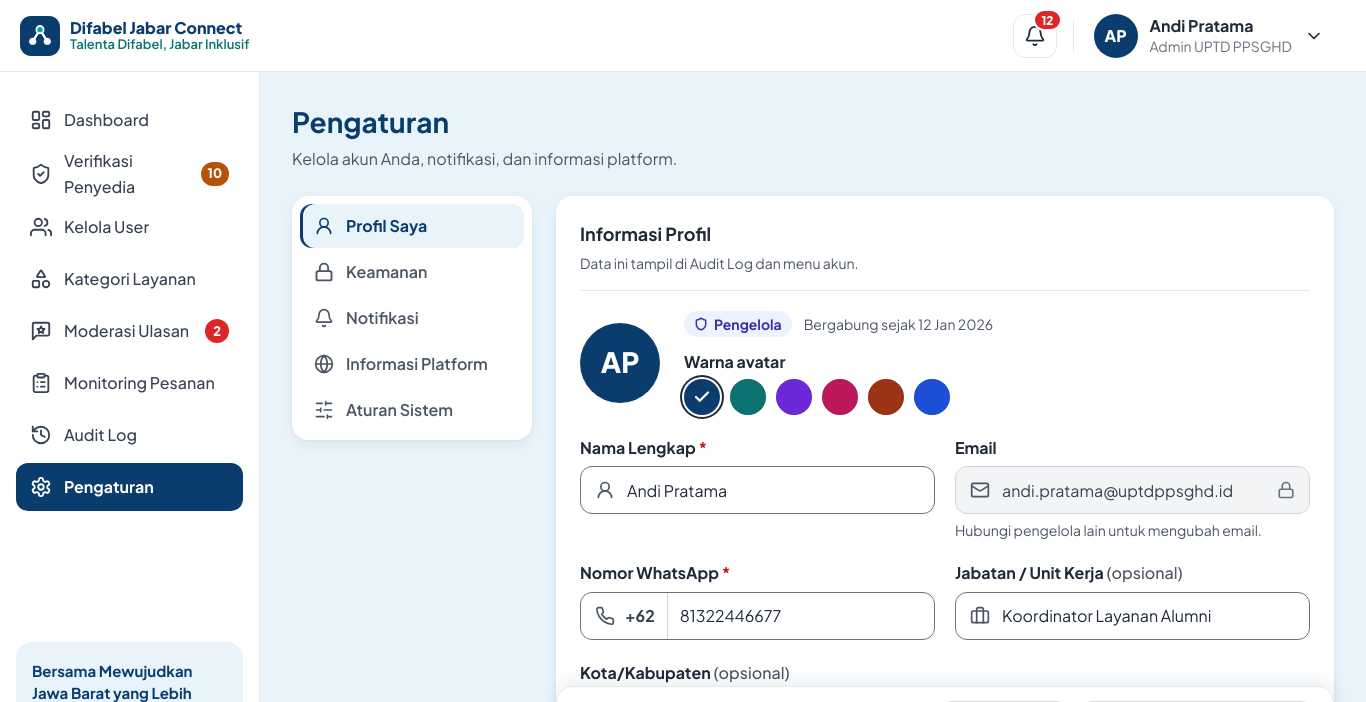
Scenario: Pengaturan Admin › Profil Saya: meminta konfirmasi sebelum meninggalkan perubahan
Step 1. Type " Senior" into the field labelled "Jabatan / Unit Kerja (opsional)" → (1148, 616), box [1000,594,1295,638]
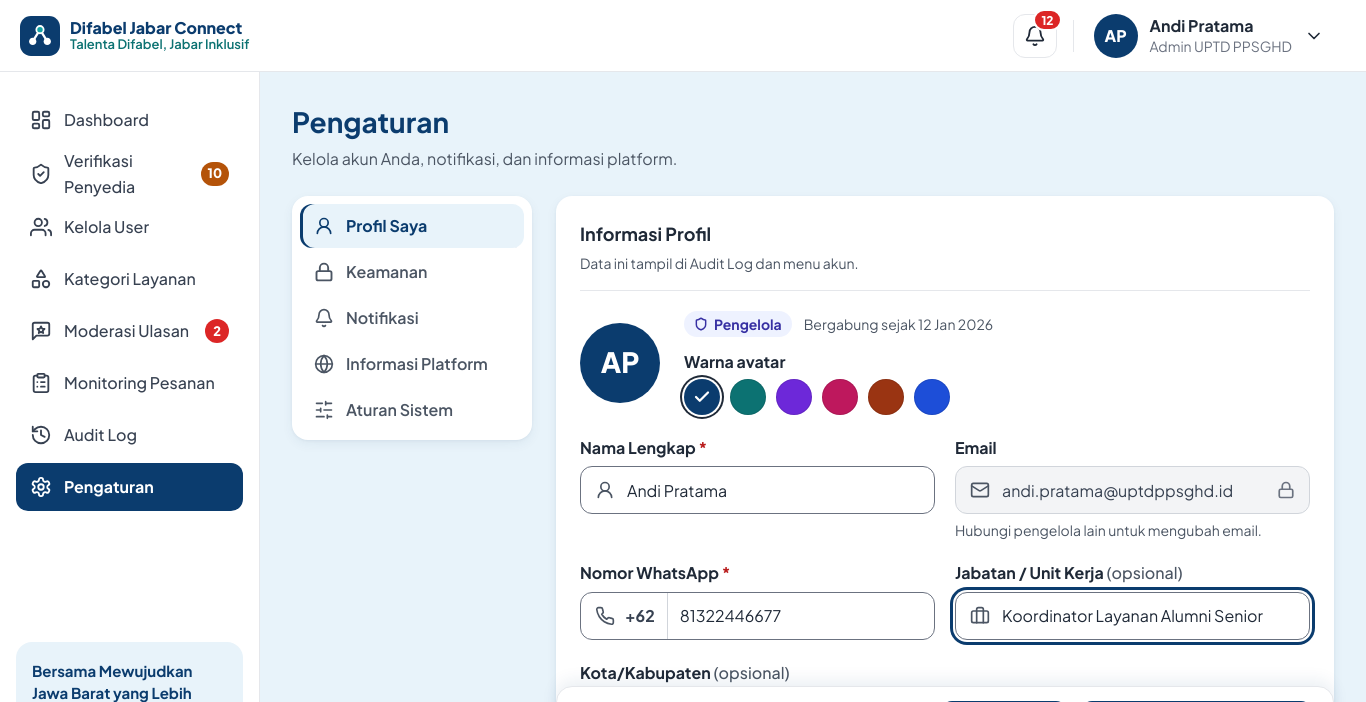
Step 2. Click the link "Keamanan" → (371, 271), box [314,261,427,282]
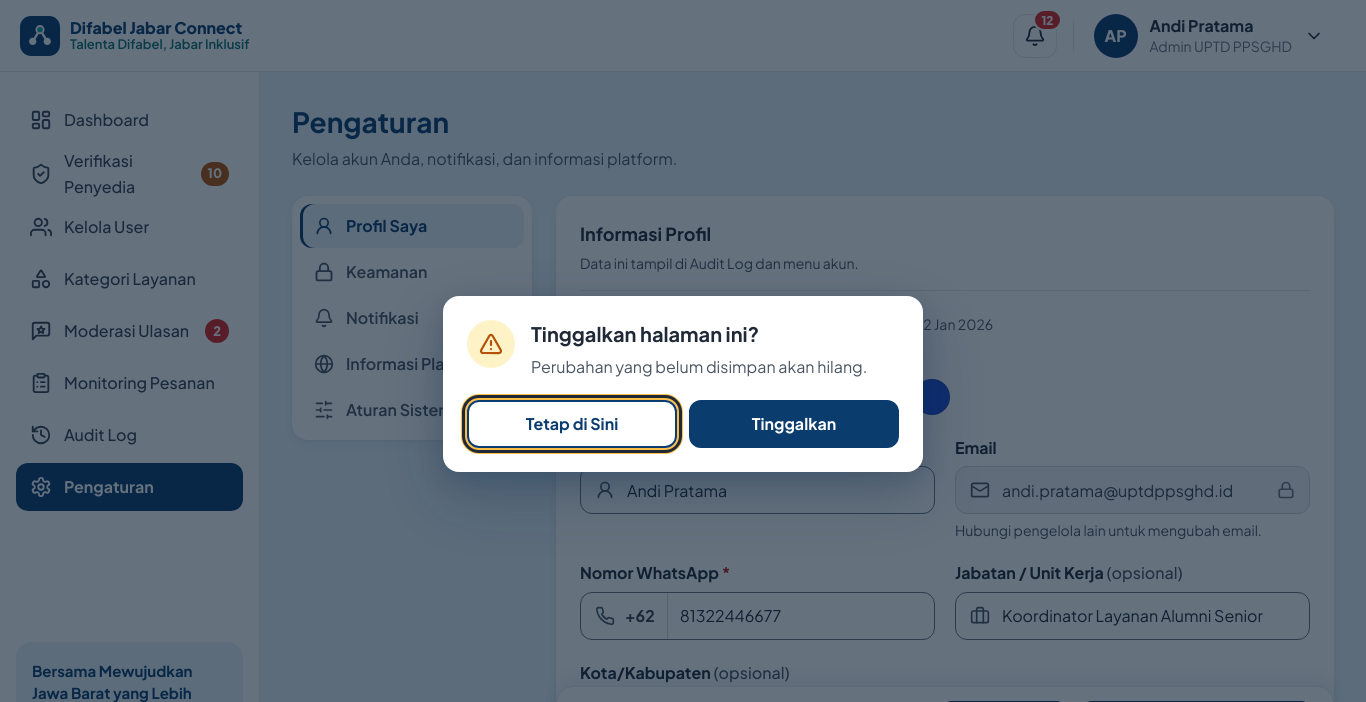
Step 3. Click the button "Tetap di Sini" → (572, 424), box [467,400,677,448]
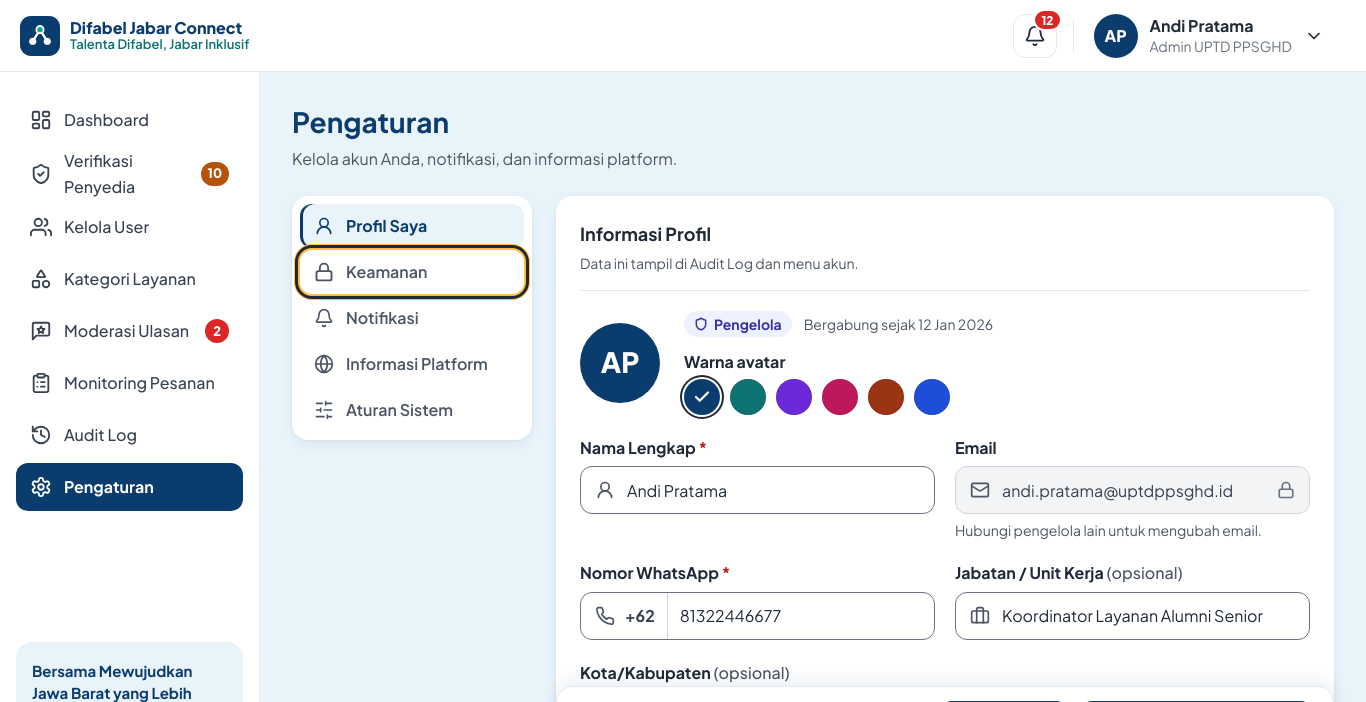
Now the field labelled "Jabatan / Unit Kerja (opsional)" holds "Koordinator Layanan Alumni Senior", box [1000,594,1295,638]
Step 4. Click the link "Keamanan" → (412, 272), box [300,250,524,294]
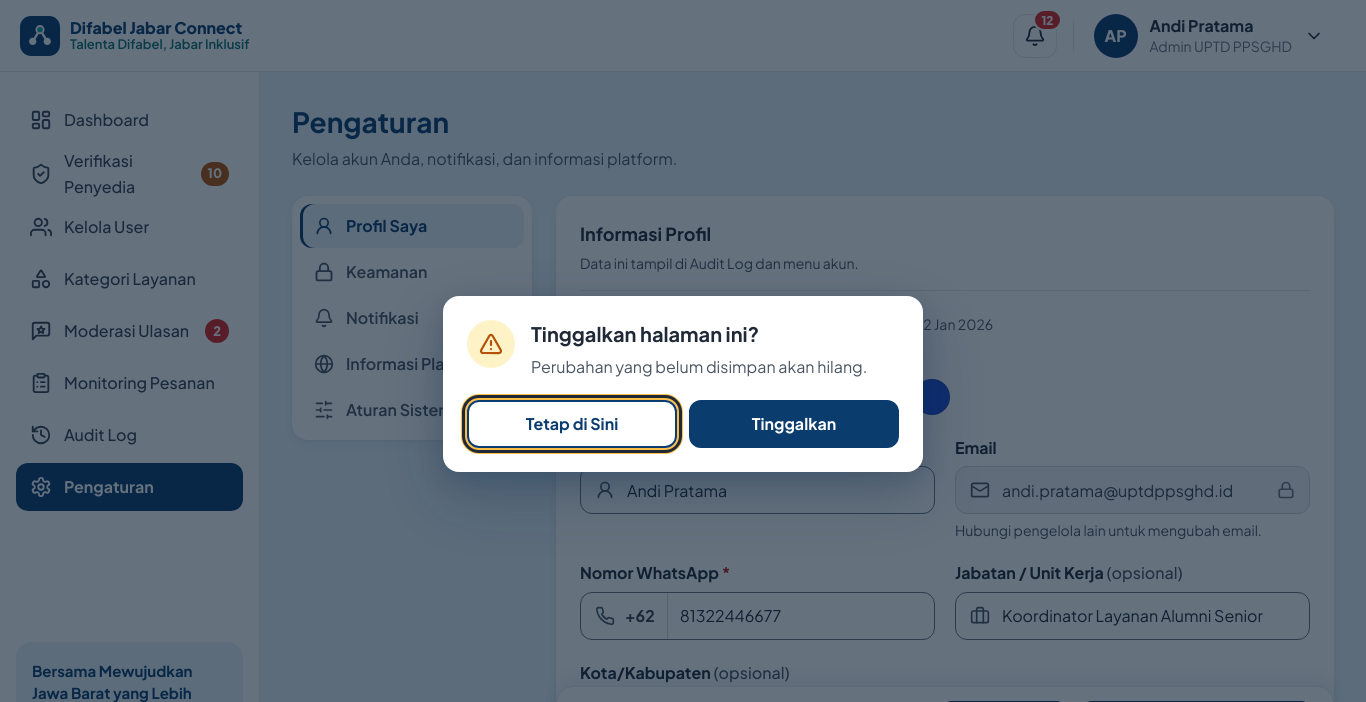
Step 5. Click the button "Tinggalkan" → (794, 424), box [689,400,899,448]
(page scrolled)
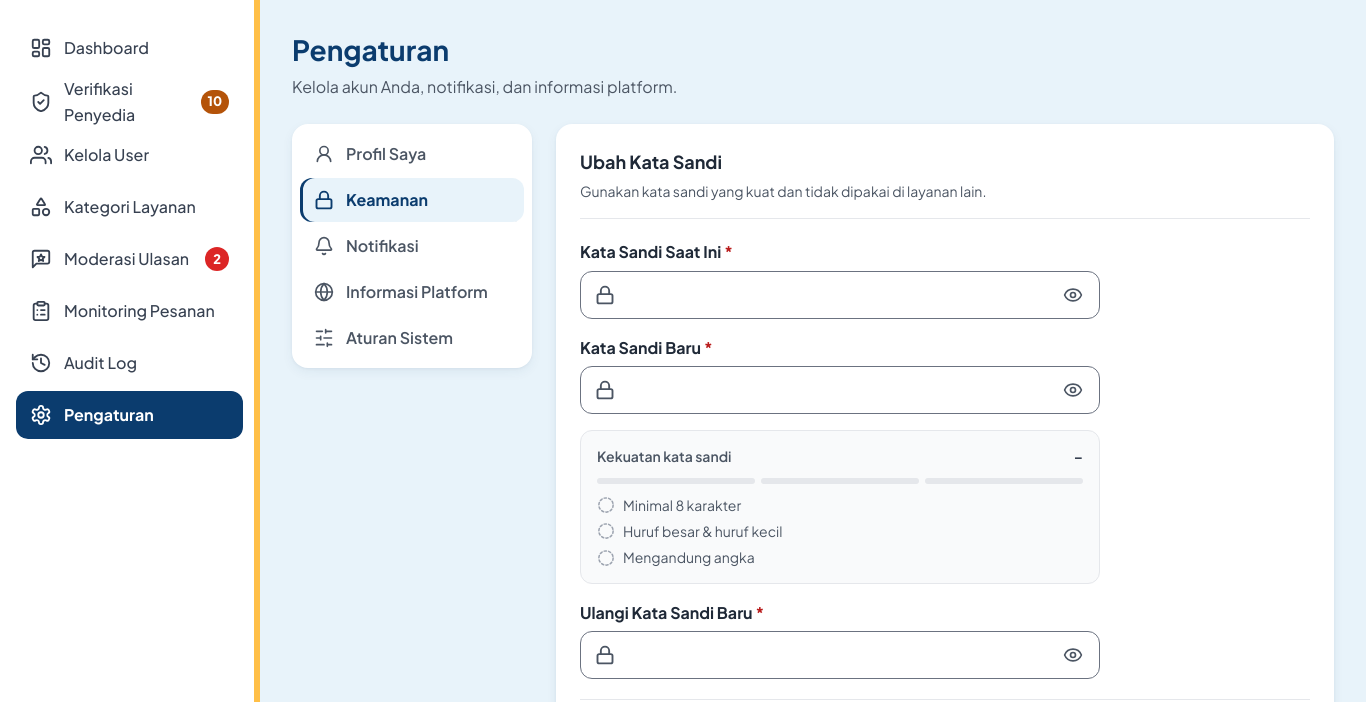
Now the heading "Ubah Kata Sandi" is shown, box [580,150,722,173]
